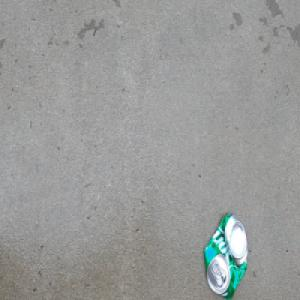SodaCan: (202, 211, 249, 300)
